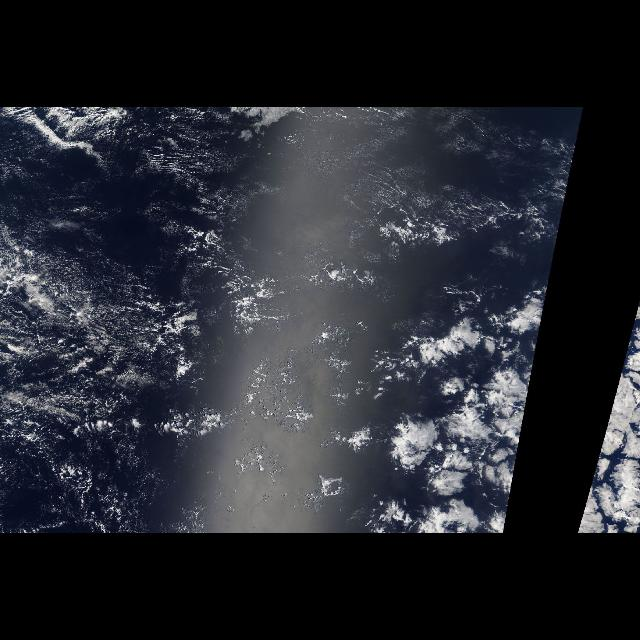Flower: (361, 281, 549, 534)
Sugar: (1, 231, 196, 494), (268, 121, 554, 269)
